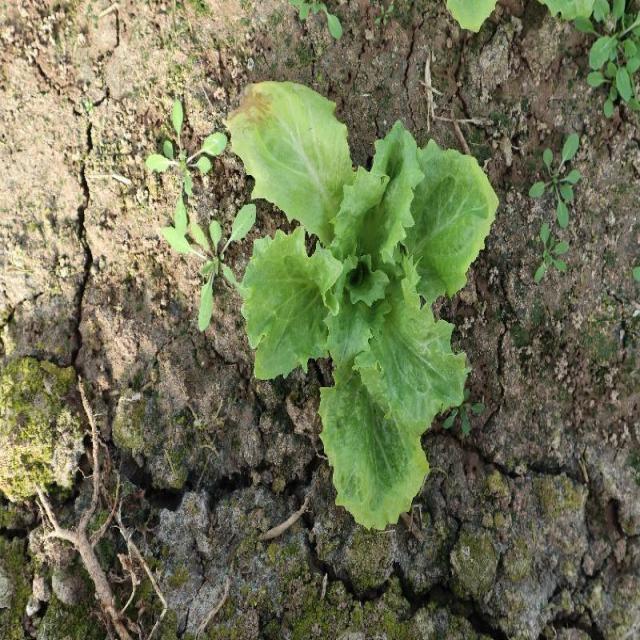crop: (229, 79, 500, 529)
